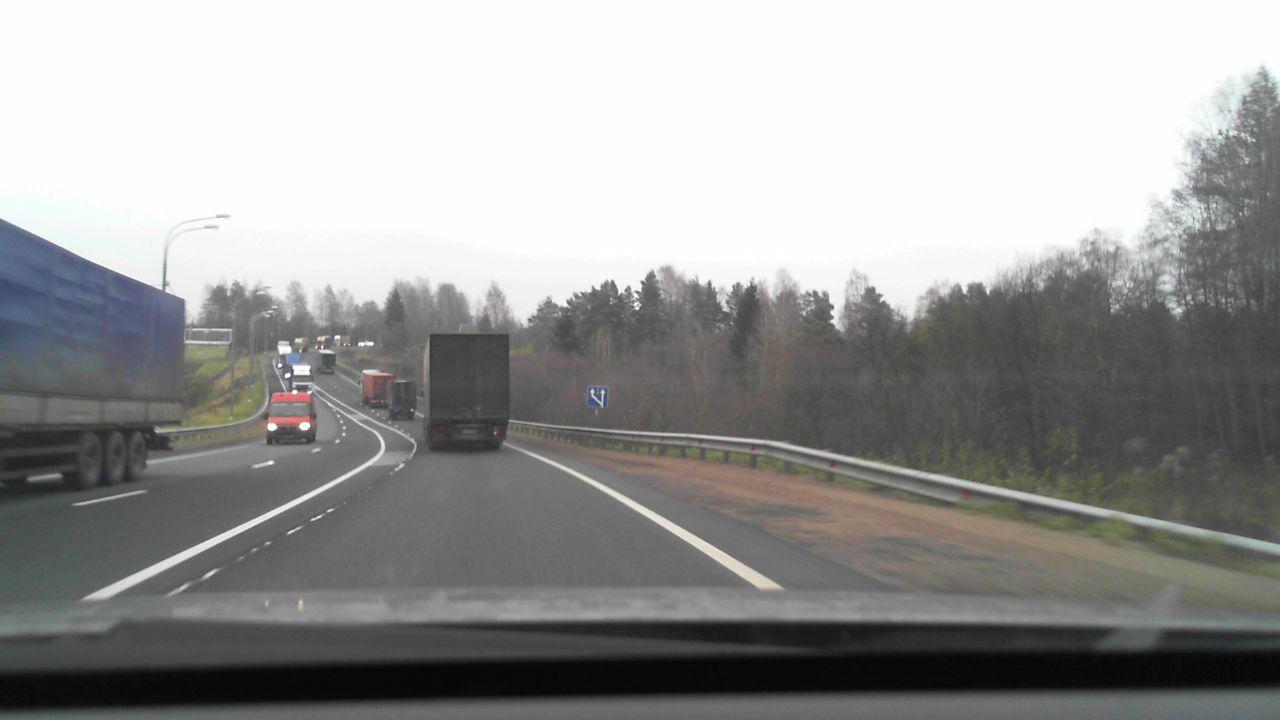5_15_4: (585, 385, 608, 408)
